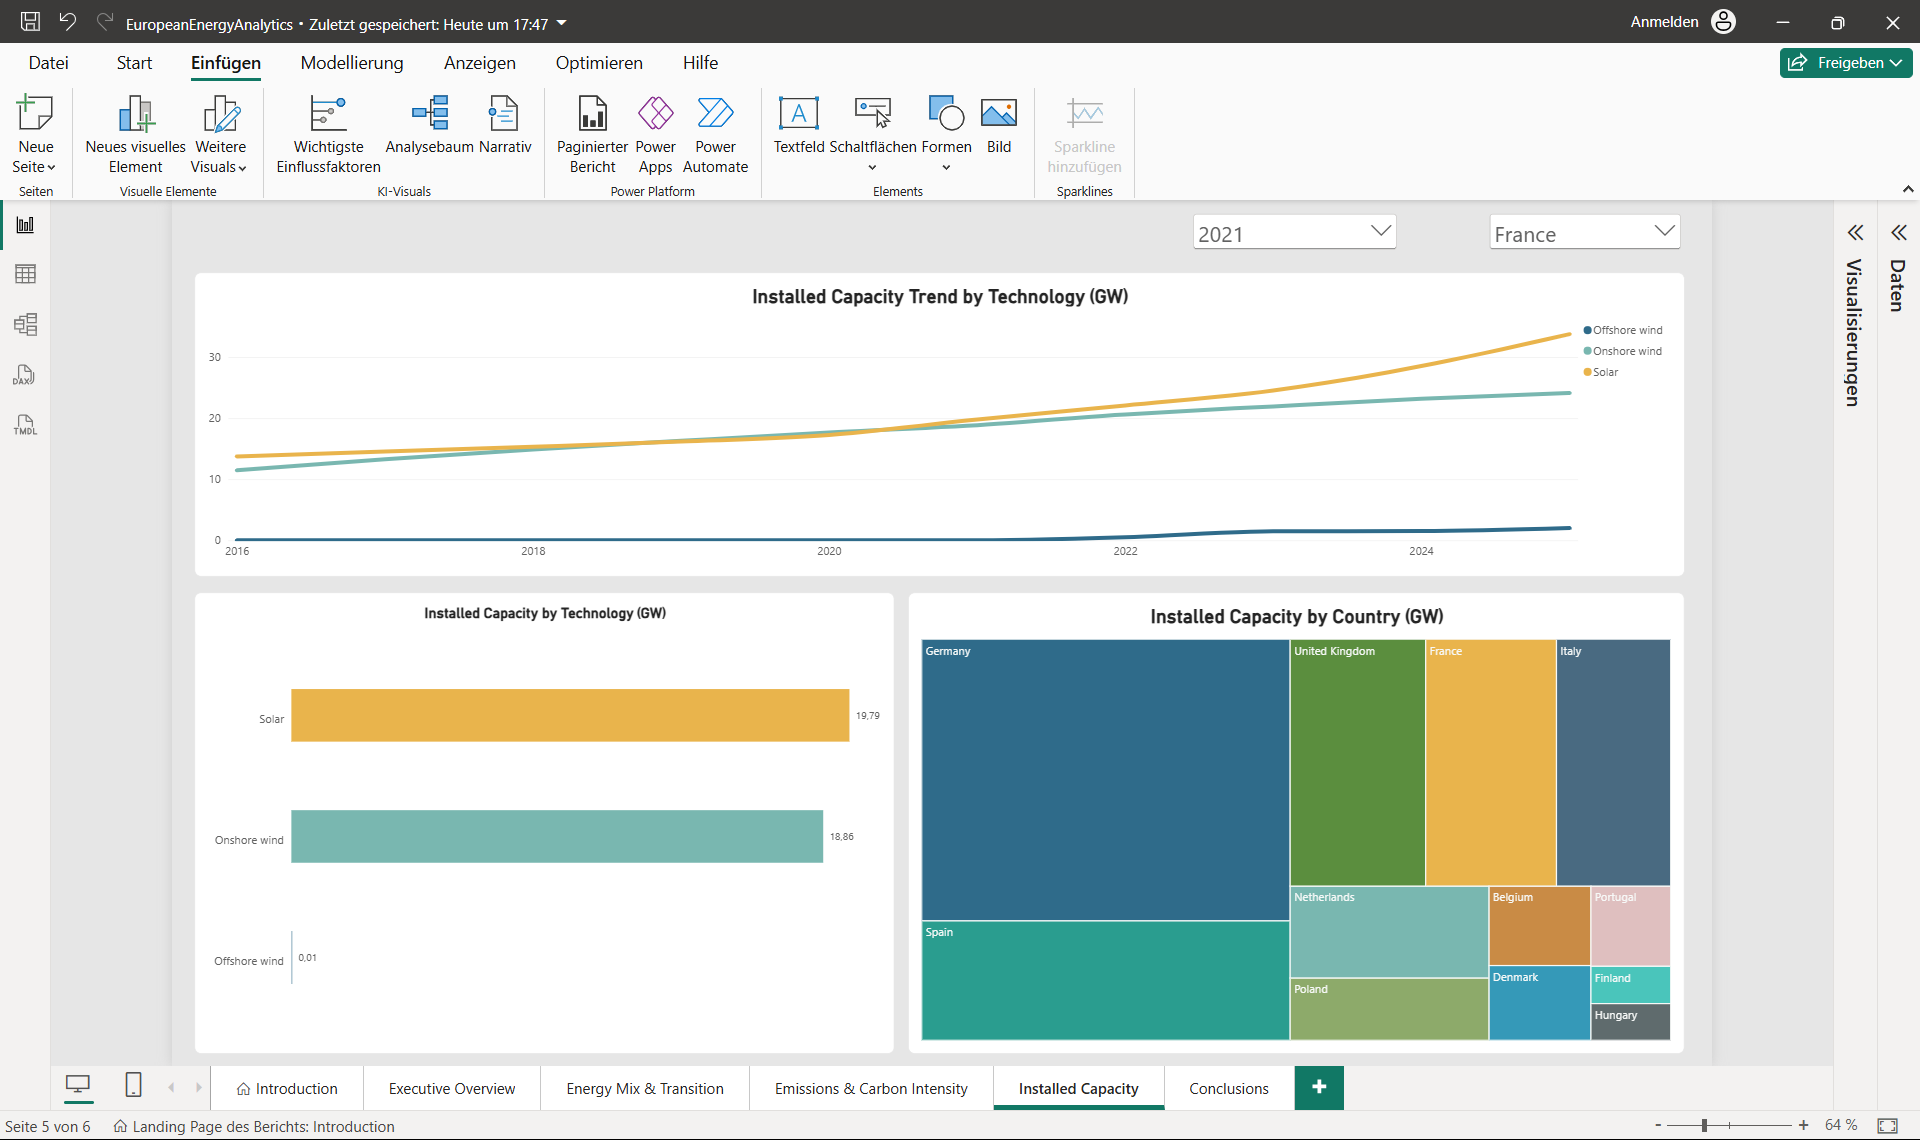

Layout of this report page (visuals, bound fields, positions):
{"tool":"powerbi","page":{"name":"Installed Capacity","canvas":[1920,1080],"ordinal":4},"visuals":[{"type":"slicer","fields":{"Values":["dim_country.country_name"]},"box":[1638.4,12.5,247.9,49.9],"z":0},{"type":"slicer","fields":{"Values":["dim_date.year"]},"box":[1268.9,12.5,263.5,63.9],"z":1000},{"type":"lineChart","title":"Installed Capacity Trend by Technology (GW)","fields":{"Category":["dim_date.date.Variation.Datumshierarchie.Jahr"],"Y":["Energy_Measures.Capacity GW (Non-Aggregate)"],"Series":["dim_capacity_series.series_name"]},"box":[28.1,90.4,1858.2,378.8],"z":2000},{"type":"barChart","title":"Installed Capacity by Technology (GW)","fields":{"Category":["dim_capacity_series.series_name"],"Y":["Energy_Measures.Capacity GW (Non-Aggregate)"]},"box":[28.1,489.5,873,575.2],"z":3000},{"type":"treemap","title":"Installed Capacity by Country (GW)","fields":{"Group":["dim_country.country_name"],"Values":["Energy_Measures.Capacity GW (Non-Aggregate)"]},"box":[918.2,489.5,968.1,575.2],"z":4000}]}

Visuals, with their boxes on the page's 1920x1080 design canvas (x1, y1, x2, y2). These are canvas units, not pixel positions in the 1920x1140 screenshot, which may show the page scaled, cropped or inside an application window:
slicer - dim_country.country_name: locate(1638, 12, 1886, 62)
slicer - dim_date.year: locate(1269, 12, 1532, 76)
"Installed Capacity Trend by Technology (GW)" lineChart: locate(28, 90, 1886, 469)
"Installed Capacity by Technology (GW)" barChart: locate(28, 490, 901, 1065)
"Installed Capacity by Country (GW)" treemap: locate(918, 490, 1886, 1065)
